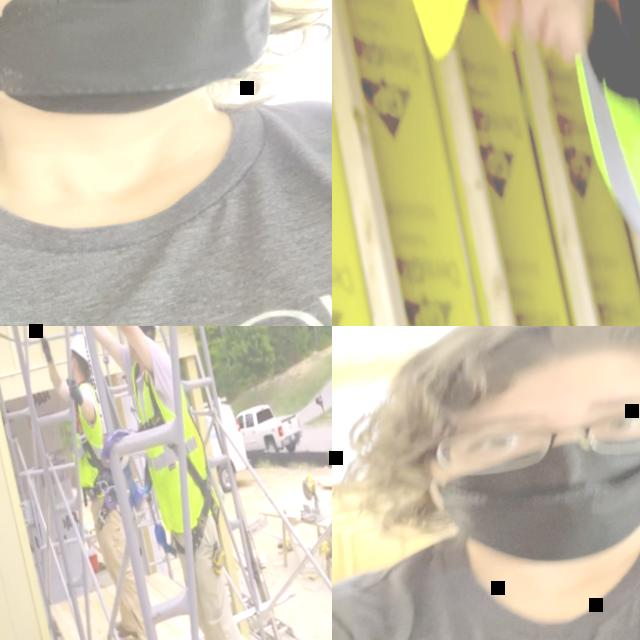Hardhat: (332, 0, 520, 76), (68, 332, 87, 362)
Mask: (0, 0, 303, 151), (422, 418, 640, 586)
NO-Hardhat: (365, 326, 640, 443)
NO-Mask: (502, 0, 620, 71)
NO-Safety Vest: (0, 65, 332, 326), (332, 455, 640, 640)
Person: (0, 0, 332, 326), (332, 0, 640, 326), (332, 326, 640, 640), (35, 326, 282, 640), (34, 326, 156, 640)
Safety Vest: (524, 0, 640, 326), (126, 347, 224, 535), (58, 380, 117, 498)
vehicle: (184, 395, 254, 498), (234, 397, 305, 462)
